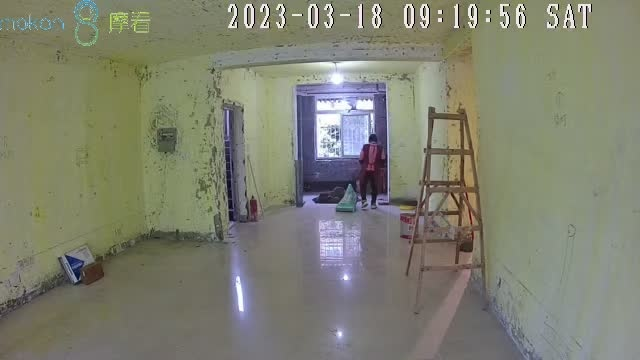people: (359, 134, 386, 210)
window: (315, 98, 374, 160)
